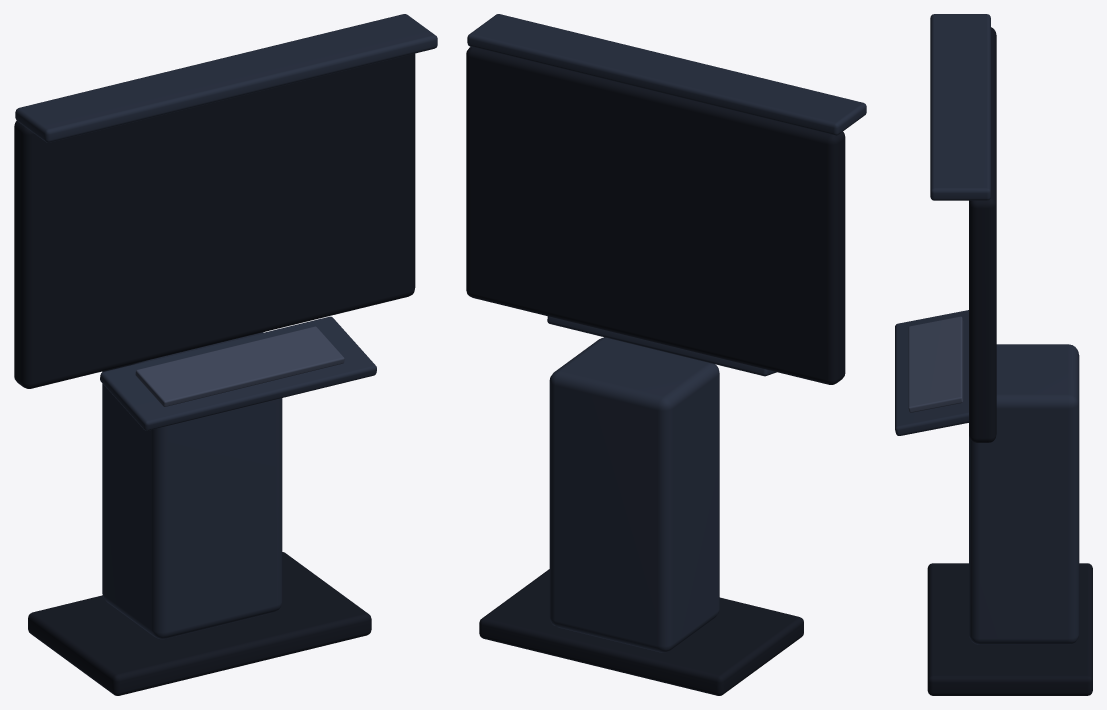
The model's file is kiosk.glb.
3 renders of one model, left to right at view 1: azimuth 30°, elevation 25°; view 2: azimuth 150°, elevation 25°; view 3: azimuth 270°, elevation 25°, orthographic. The views are drawn at different scales.
Visible parts, largest first — view 1: bezel, column, keyboard; view 2: bezel, column; view 3: column, bezel, keyboard.
Part boxes in pixels (bbox=[...]): bezel: bbox=[14, 53, 415, 695]; column: bbox=[15, 14, 437, 639]; keyboard: bbox=[135, 326, 344, 406]; bezel: bbox=[466, 47, 845, 695]; column: bbox=[467, 14, 866, 652]; column: bbox=[895, 14, 1079, 644]; bezel: bbox=[927, 27, 1092, 695]; keyboard: bbox=[908, 316, 963, 412].
Size of the model in its own units: 1.52 by 2.16 by 0.7182.
